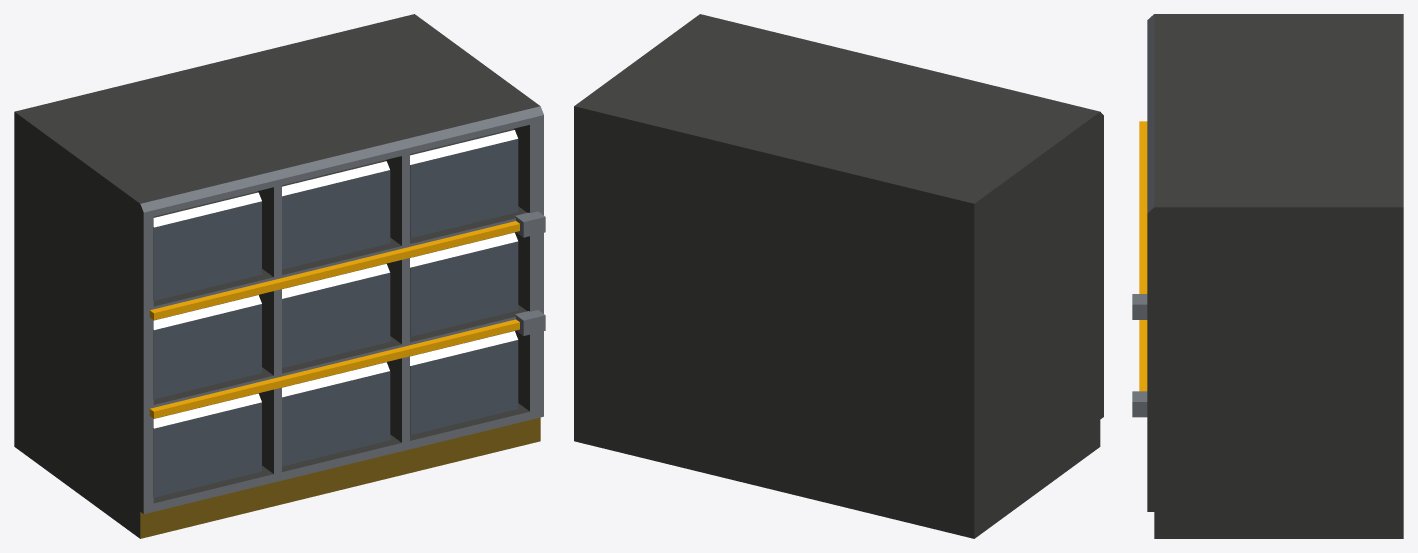
Rendered from battery_bank.glb.
3 renders of one model, left to right at view 1: azimuth 30°, elevation 25°; view 2: azimuth 150°, elevation 25°; view 3: azimuth 270°, elevation 25°, orthographic.
Visible parts, largest first — view 1: battery_bank; view 2: battery_bank; view 3: battery_bank.
Part boxes in pixels (x1=…): battery_bank: x1=14, y1=14, x2=545, y2=538; battery_bank: x1=574, y1=14, x2=1103, y2=538; battery_bank: x1=1132, y1=14, x2=1403, y2=538.
Size of the model in its own units: 2 by 1.6 by 1.18.
